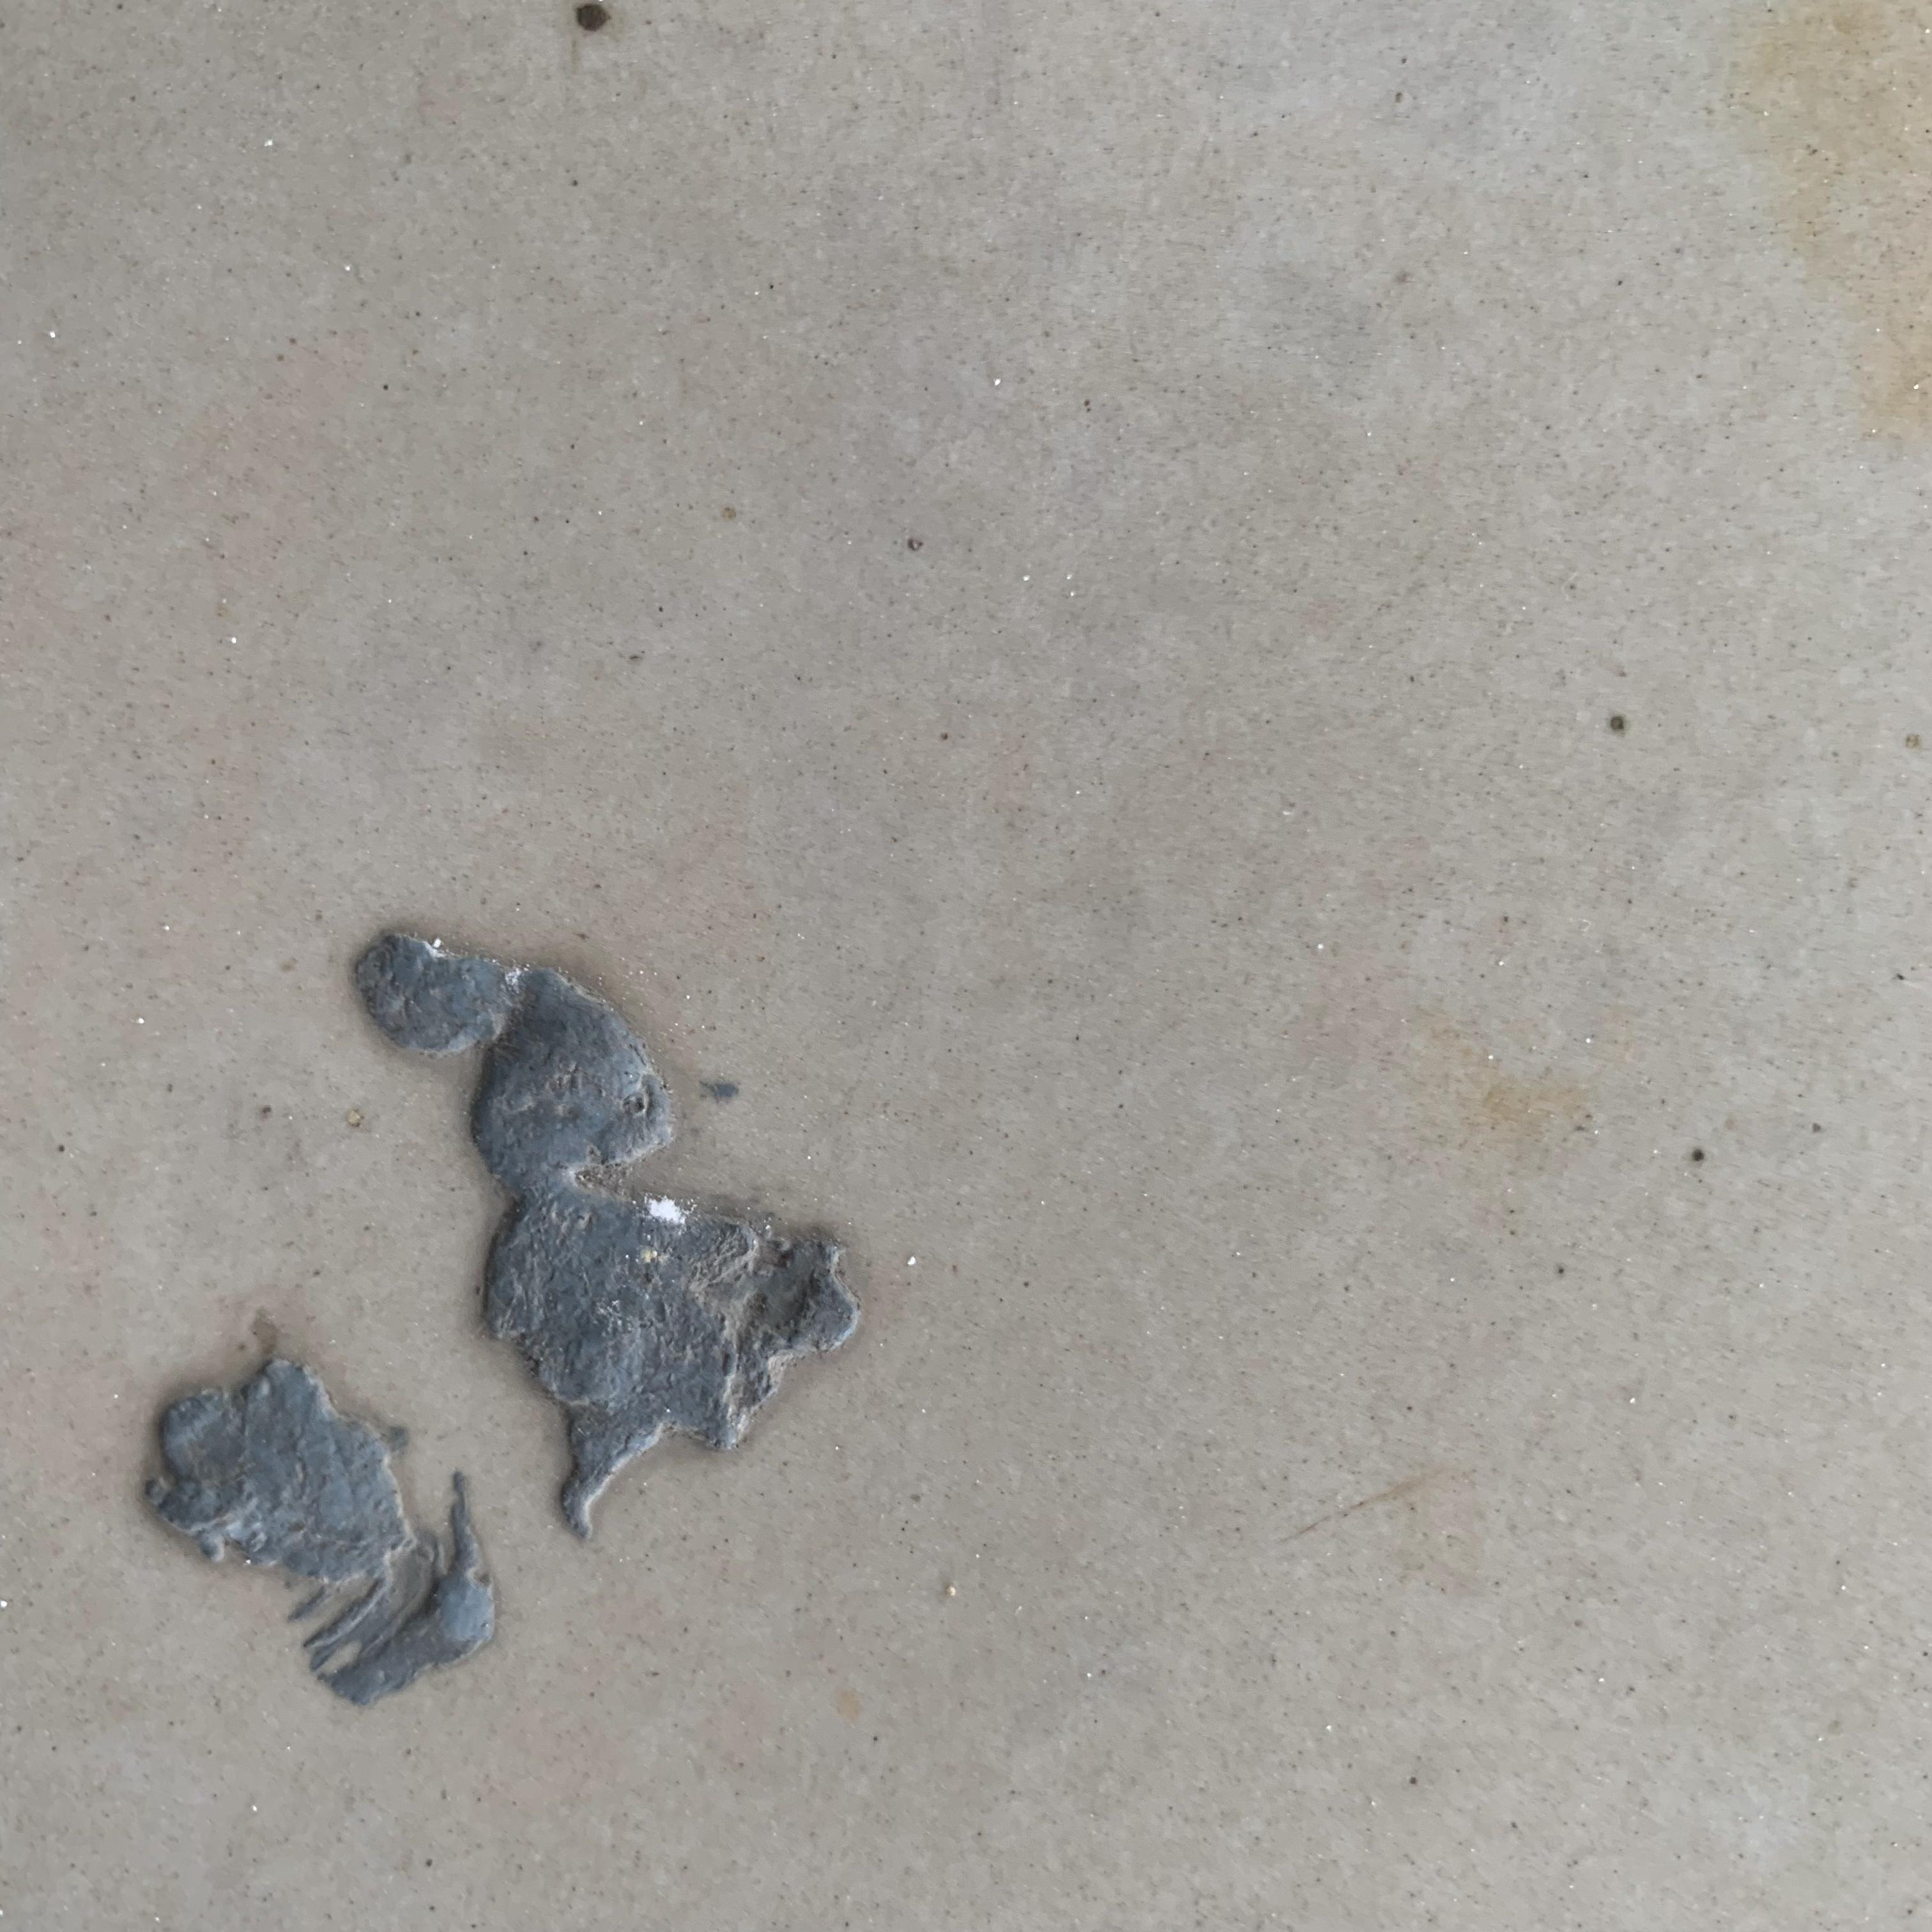grey spot: (357, 924, 860, 1539), (145, 1357, 502, 1713)
